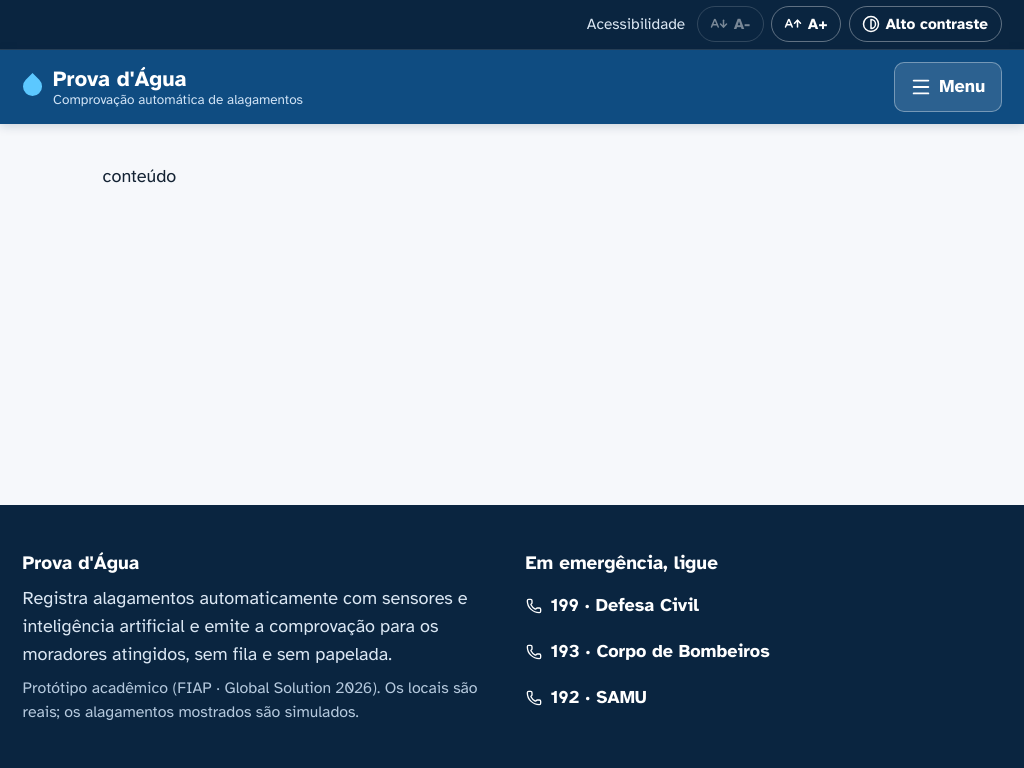
it: barra de acessibilidade › liga e desliga o alto contraste
Later steps or results of the test are not shown.
Click the button "Alto contraste". click: [925, 24]
box: [849, 6, 1002, 42]
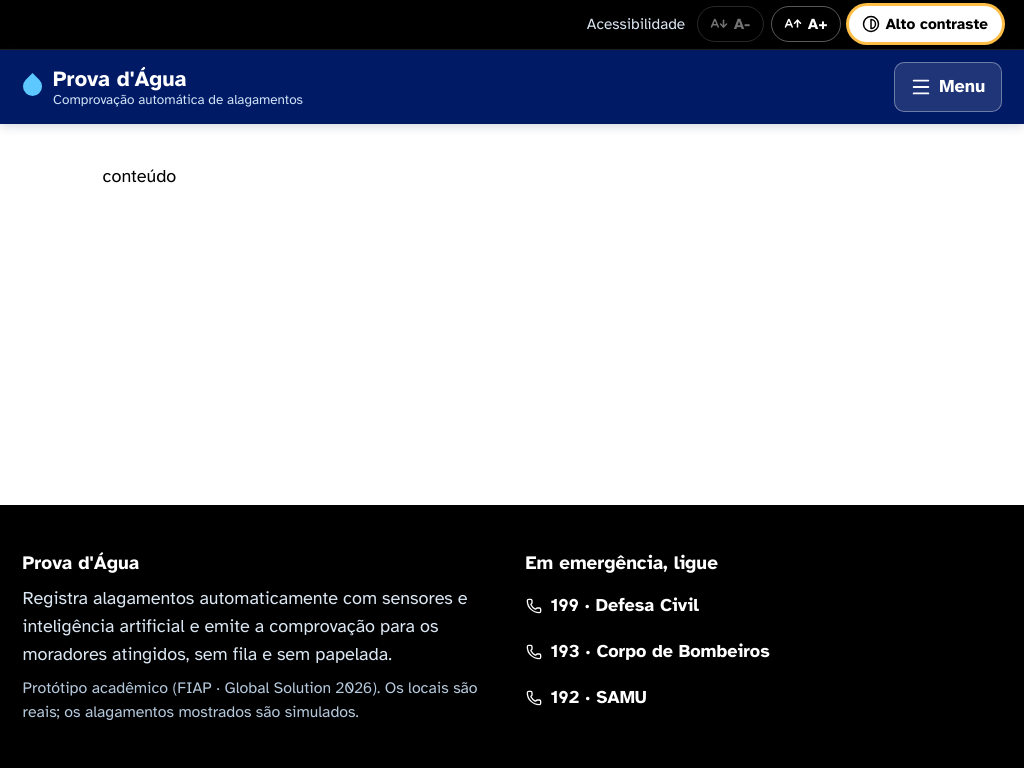
Result: the button "Alto contraste" is pressed at [849, 6, 1002, 42]
